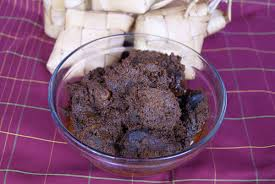Rendang: (60, 51, 210, 160)
